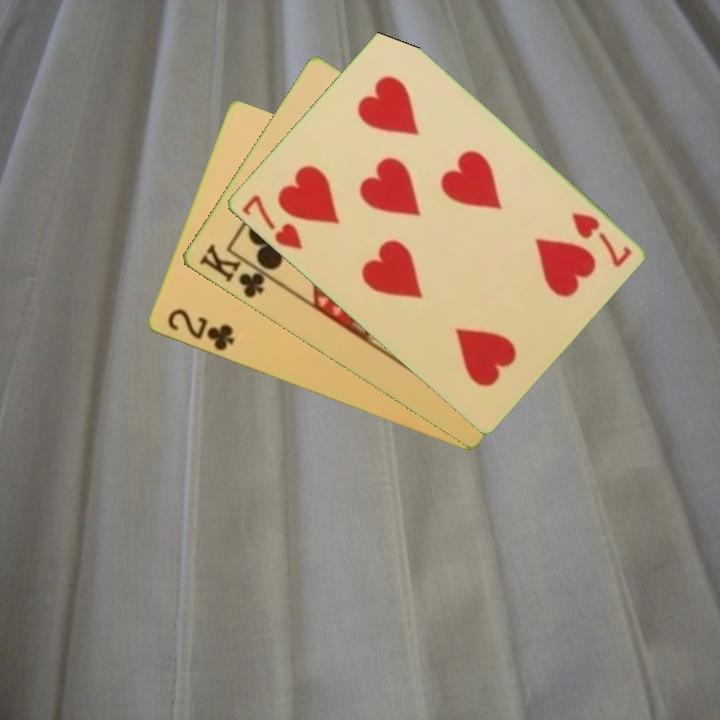2c: (163, 305, 237, 354)
7h: (567, 208, 634, 271), (237, 191, 305, 253)
Kc: (195, 240, 277, 302)
